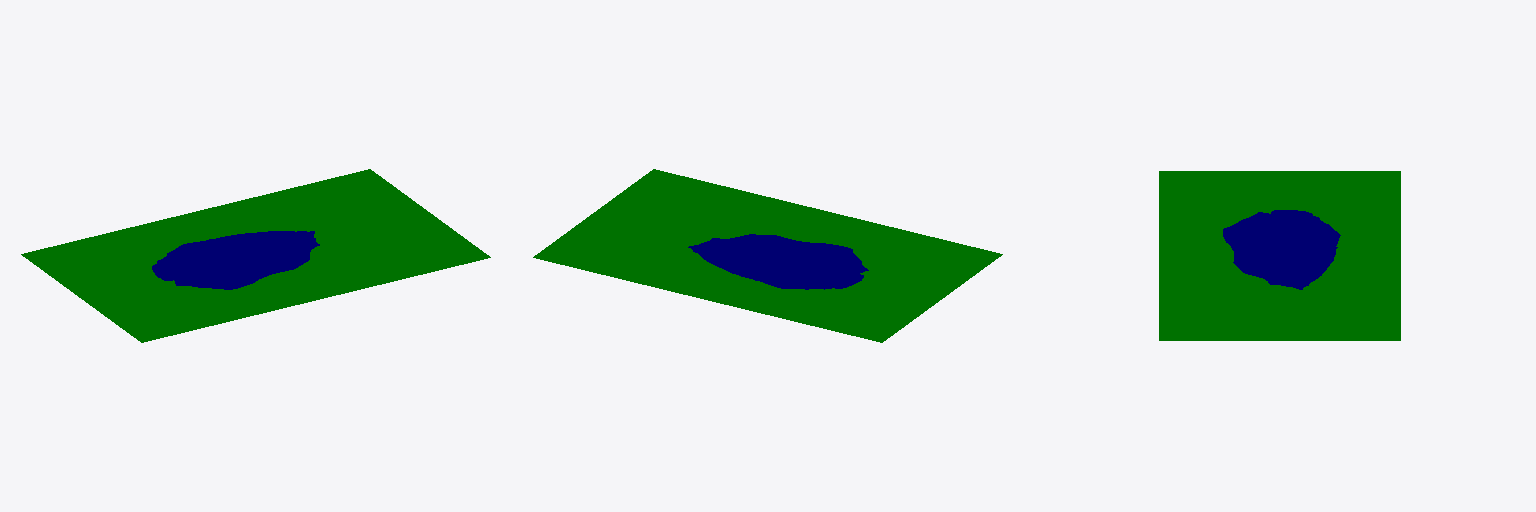
The model's file is silvermines.obj.
3 renders of one model, left to right at view 1: azimuth 30°, elevation 25°; view 2: azimuth 150°, elevation 25°; view 3: azimuth 270°, elevation 25°, orthographic.
Visible parts, largest first — view 1: SurfaceArea5, SurfaceArea1, Water0, SurfaceArea6, SurfaceArea2, SurfaceArea3, SurfaceArea4; view 2: SurfaceArea5, SurfaceArea1, Water0, SurfaceArea6, SurfaceArea2, SurfaceArea3, SurfaceArea4; view 3: SurfaceArea5, SurfaceArea1, Water0, SurfaceArea6, SurfaceArea2, SurfaceArea3, SurfaceArea4.
Part boxes in pixels (x1,y1,x2,y2): SurfaceArea5: (314, 209, 490, 285); SurfaceArea1: (75, 274, 257, 342); Water0: (152, 231, 319, 289); SurfaceArea6: (254, 169, 423, 234); SurfaceArea2: (21, 226, 170, 293); SurfaceArea3: (225, 246, 373, 314); SurfaceArea4: (138, 197, 298, 250); SurfaceArea5: (587, 169, 769, 244); SurfaceArea1: (853, 226, 1002, 302); Water0: (688, 234, 868, 289); SurfaceArea6: (533, 218, 694, 285); SurfaceArea2: (766, 284, 935, 342); SurfaceArea3: (716, 197, 885, 249); SurfaceArea4: (650, 253, 799, 314); SurfaceArea5: (1159, 284, 1292, 340); SurfaceArea1: (1159, 171, 1292, 227); Water0: (1223, 210, 1340, 289); SurfaceArea6: (1293, 284, 1400, 340); SurfaceArea2: (1293, 171, 1400, 227); SurfaceArea3: (1159, 228, 1268, 283); SurfaceArea4: (1310, 228, 1400, 283).
Size of the model in its own units: 900 by 0 by 540.